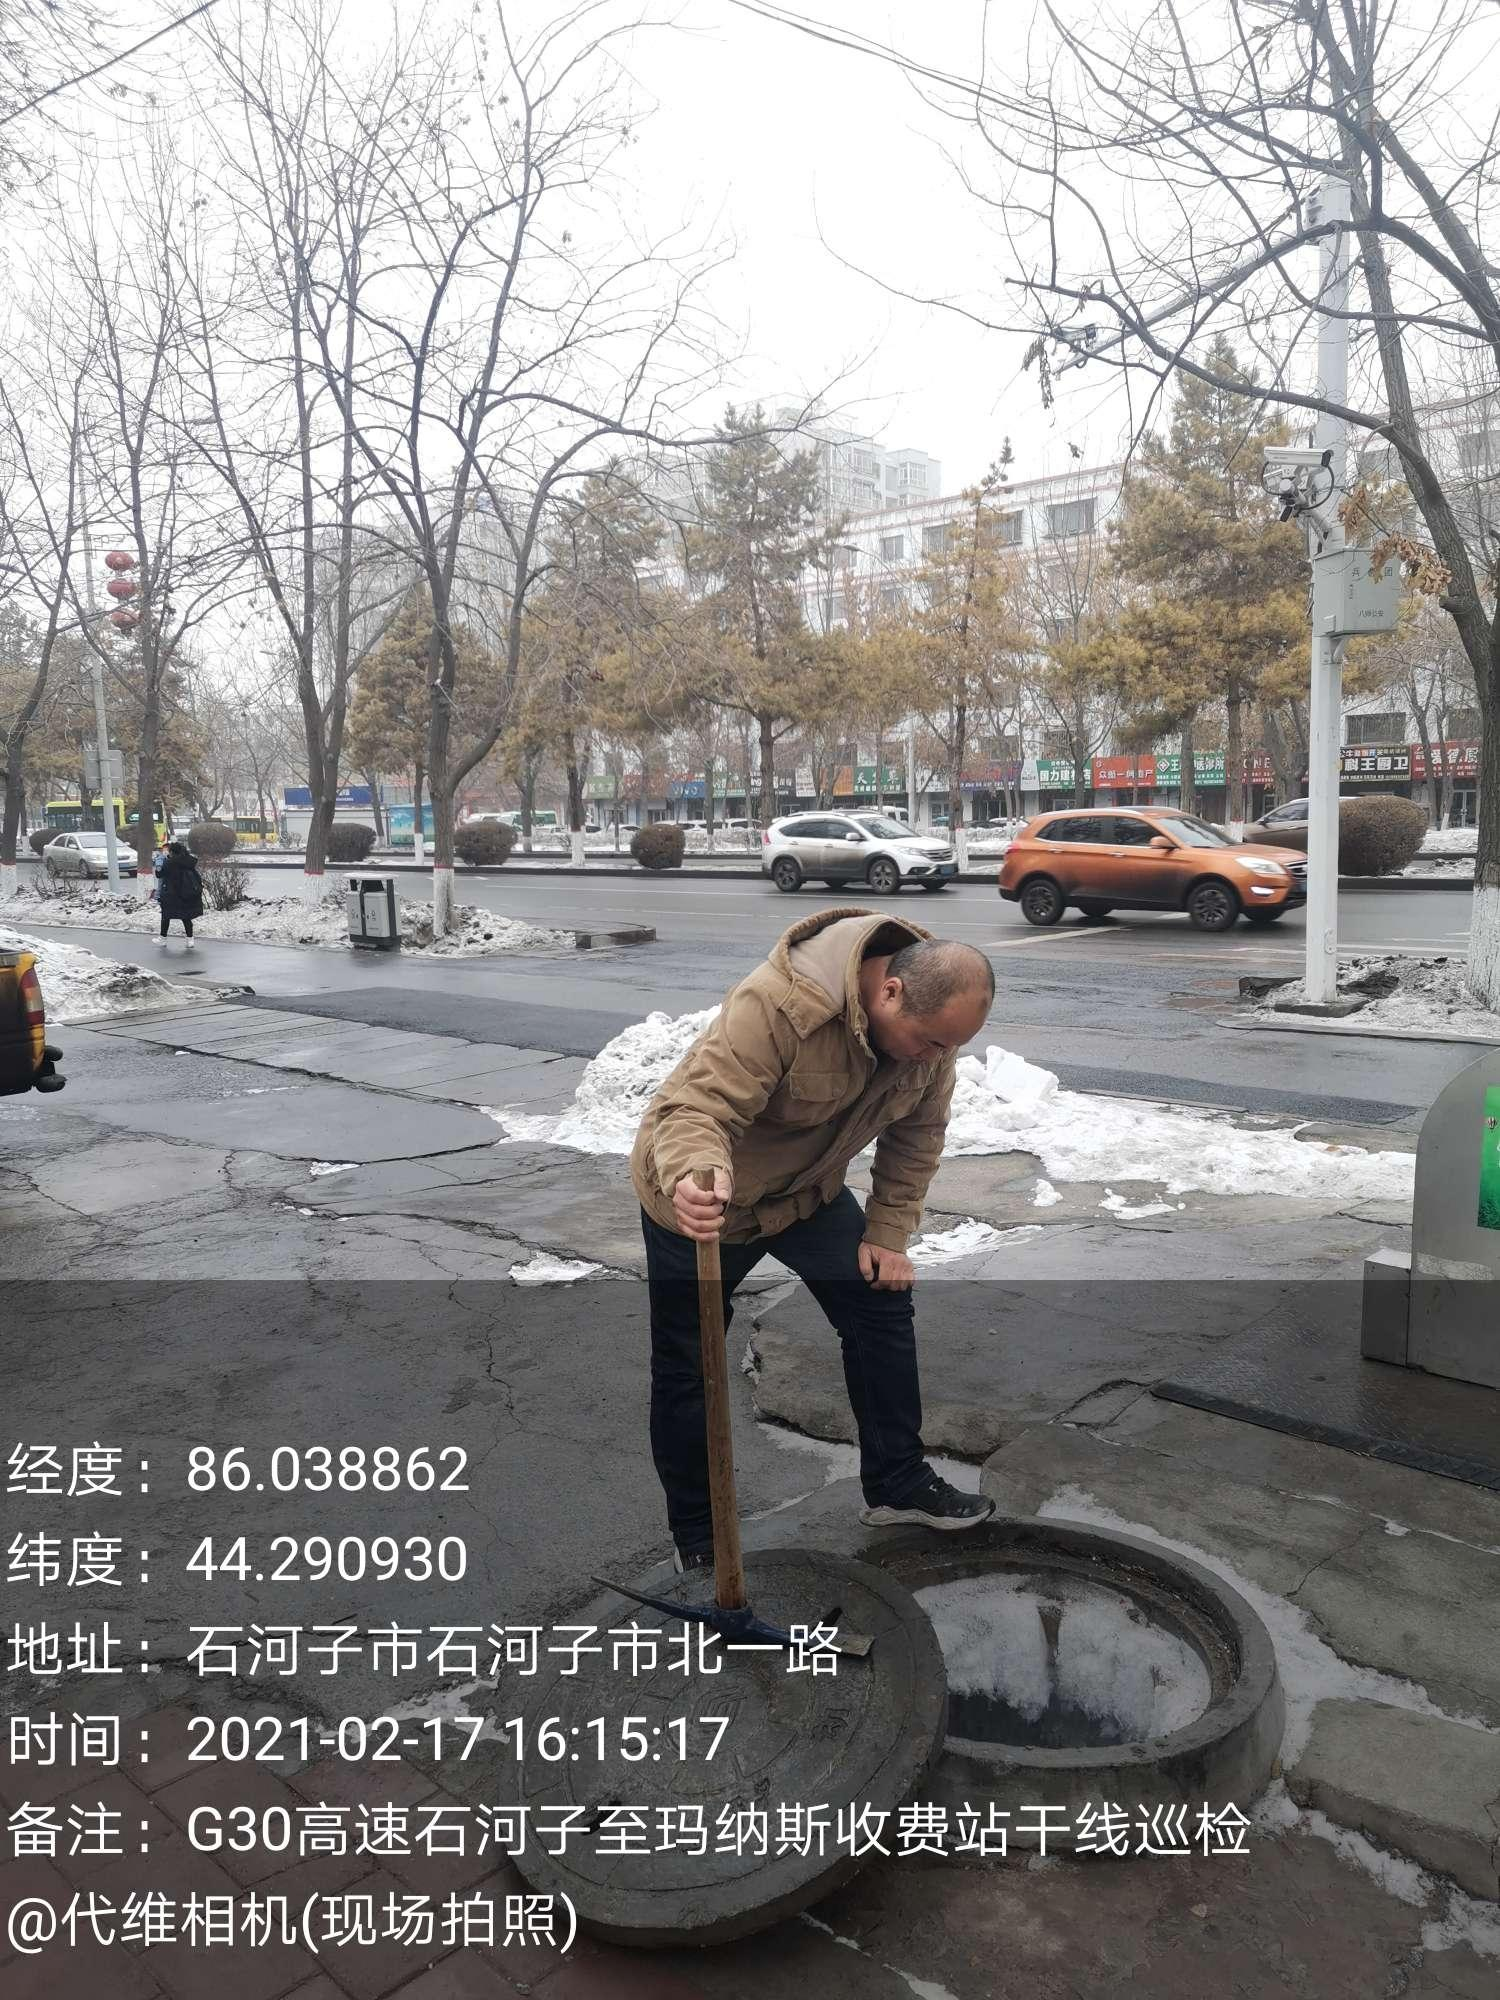wellcover: (362, 1507, 1390, 1948)
